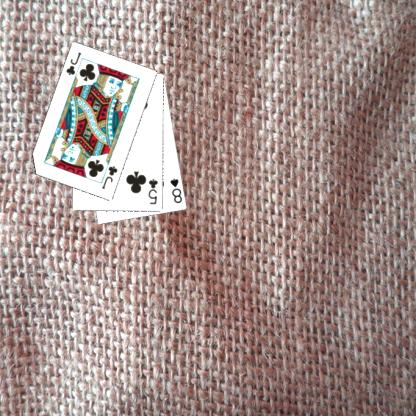5C: (146, 176, 159, 206)
8S: (168, 176, 184, 205)
JC: (99, 163, 119, 191), (63, 49, 83, 77)
